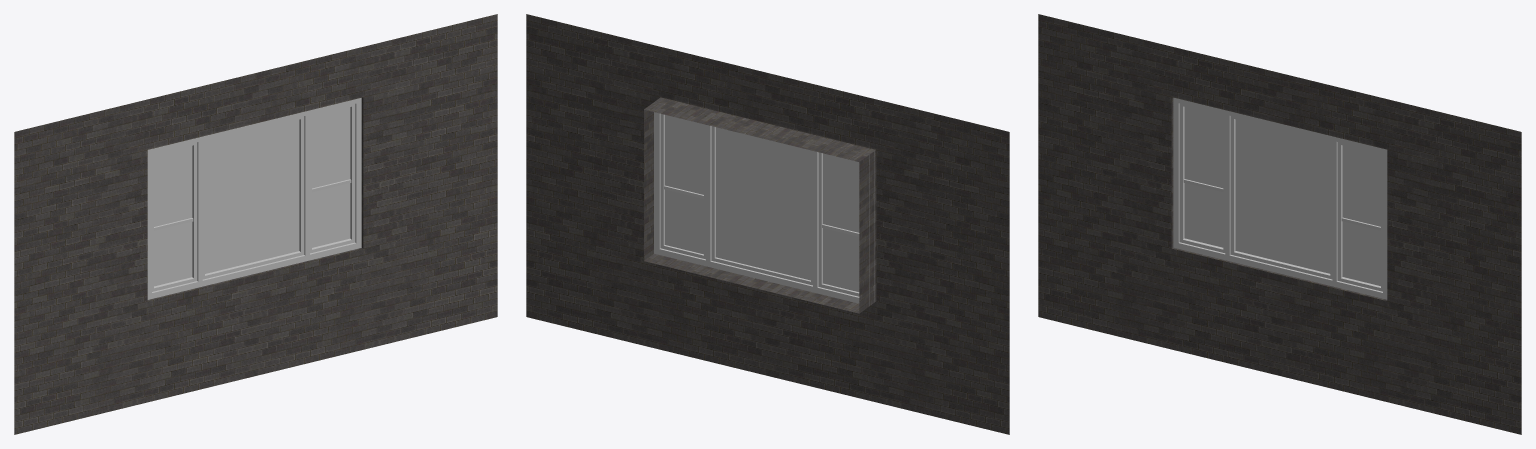
File: Sm_Window07.fbx
The picture shows the model from 3 angles, left to right: view 1: azimuth 30°, elevation 25°; view 2: azimuth 150°, elevation 25°; view 3: azimuth 330°, elevation 25°; orthographic projection.
Parts seen in each view (by area): view 1: Sm_Window07; view 2: Sm_Window07; view 3: Sm_Window07.
Part boxes in pixels (x1,y1,x2,y2): Sm_Window07: [14, 14, 497, 434]; Sm_Window07: [526, 14, 1009, 434]; Sm_Window07: [1038, 14, 1521, 434].
Size of the model in its own units: 501 by 30.37 by 300.
